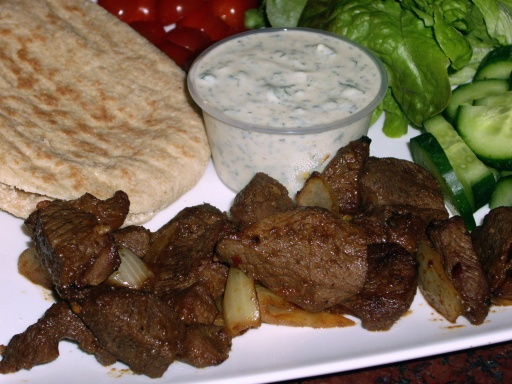background: (0, 0, 410, 227)
